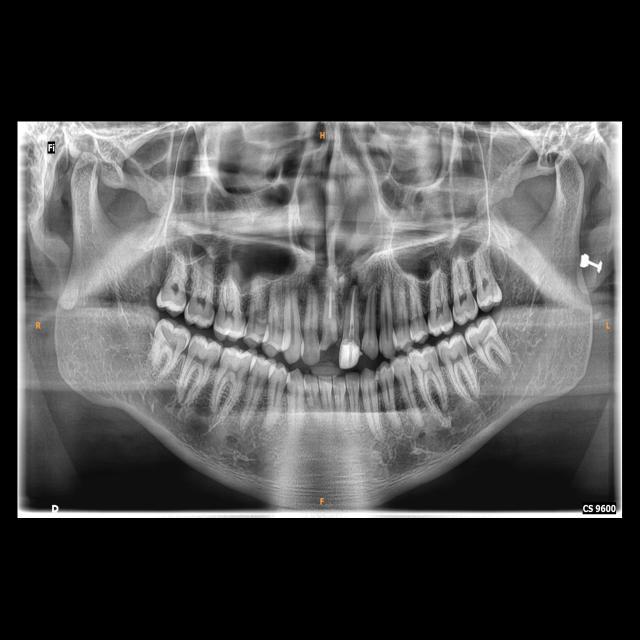kanal-tedavisi: (340, 288, 360, 338), (324, 283, 339, 325)
kaplama: (338, 342, 363, 368)
kirik: (317, 328, 341, 355)
